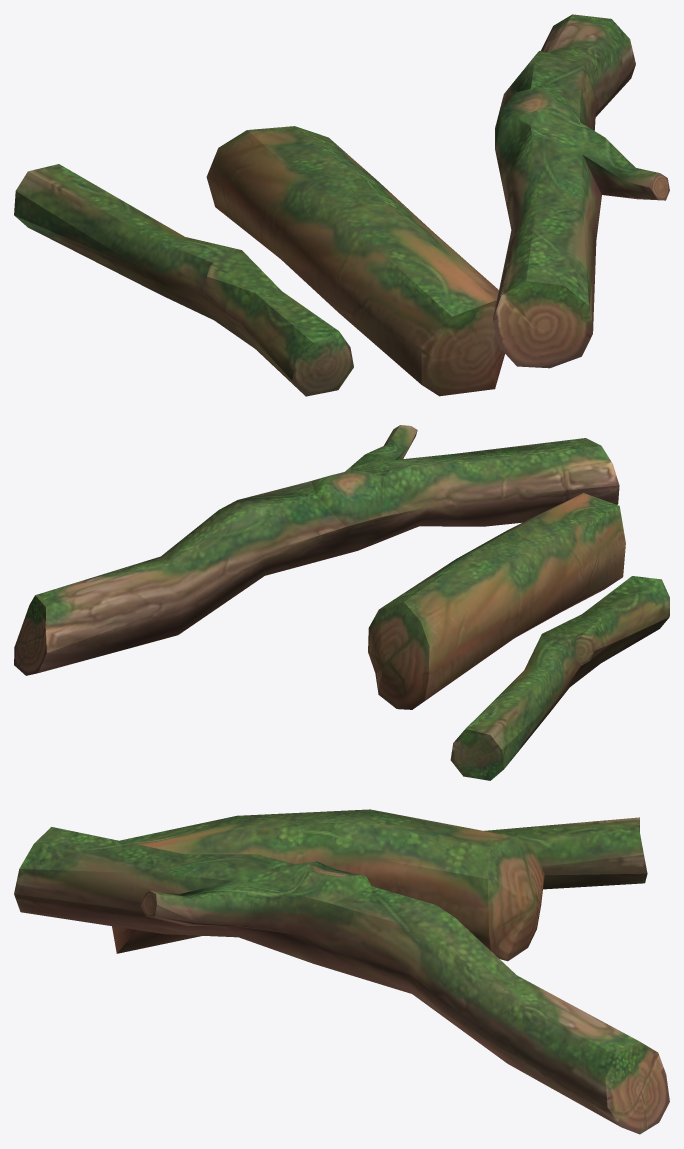
The model's file is shuzhuang03.FBX.
3 renders of one model, top to bottom at view 1: azimuth 30°, elevation 25°; view 2: azimuth 150°, elevation 25°; view 3: azimuth 270°, elevation 25°, orthographic. The views are drawn at different scales.
Parts seen in each view (by area): view 1: UE050_3; view 2: UE050_3; view 3: UE050_3.
Boxes of the visible parts, x1,y1,x2,y2 form: UE050_3: (14,14,669,396); UE050_3: (14,425,669,780); UE050_3: (14,809,669,1134).
Size of the model in its own units: 310 by 81.72 by 312.
